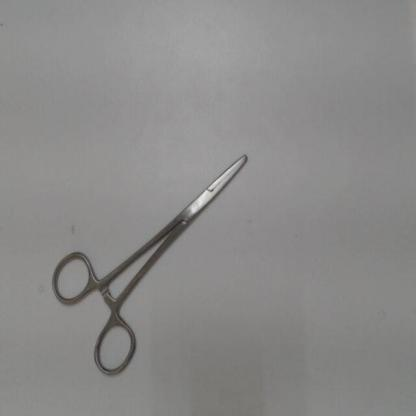Mayo Needle Holder: (46, 134, 264, 383)
